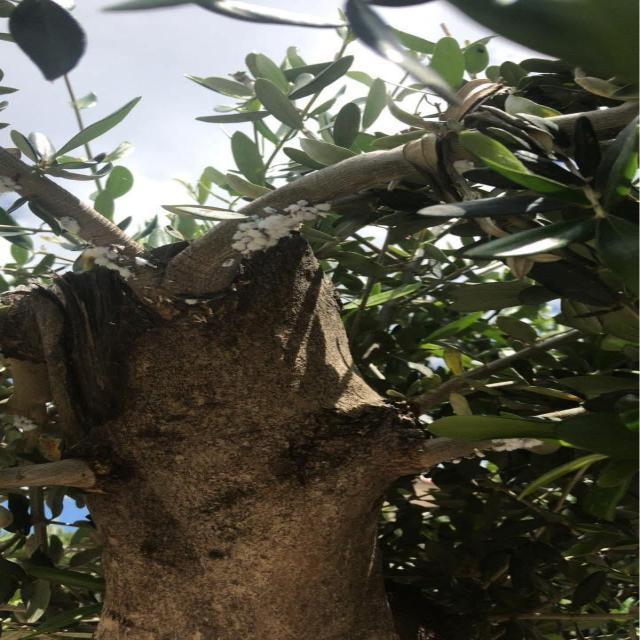Psyllid: (232, 200, 330, 258), (76, 244, 160, 280), (476, 438, 553, 456), (54, 216, 90, 242)
